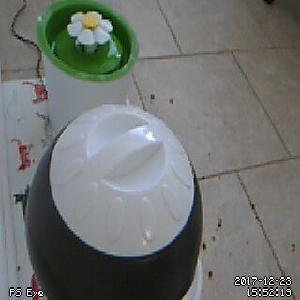fountain: (35, 1, 141, 82)
